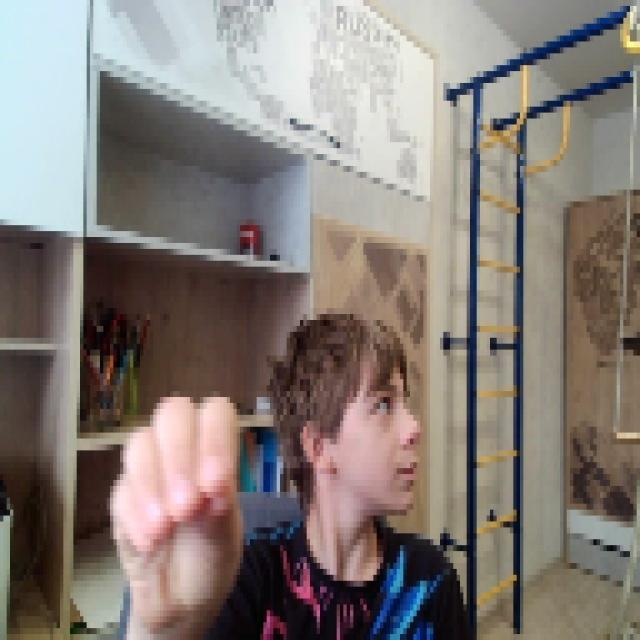left_click: (104, 385, 244, 622)
